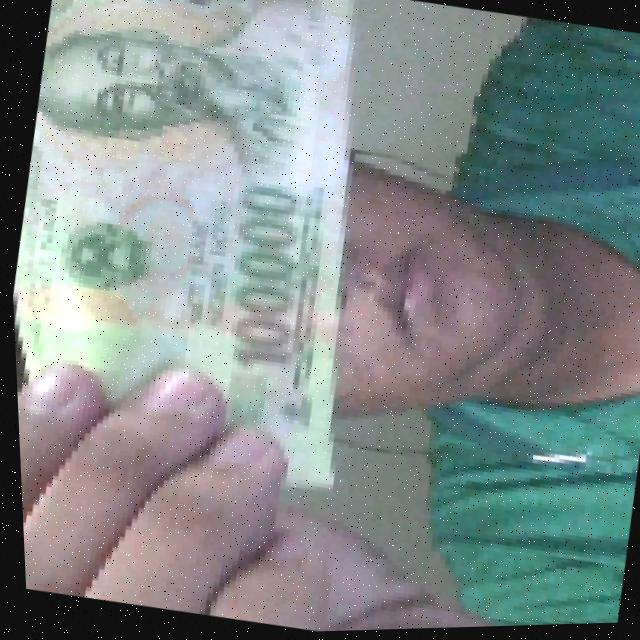100 000 VND: (0, 0, 414, 508)
